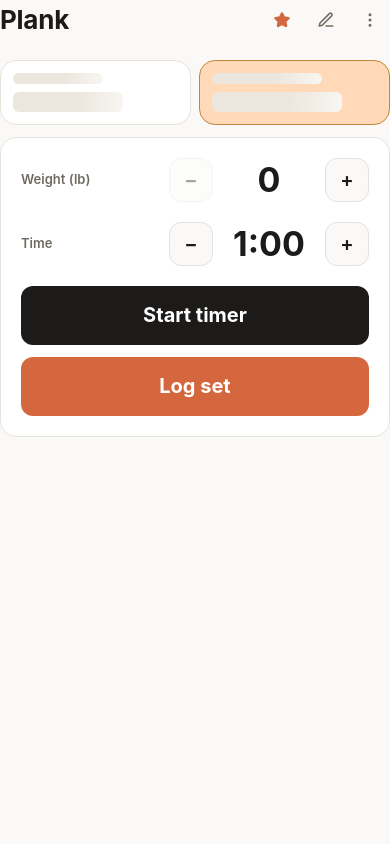
Test: ExerciseDetail duration-tracked exercises › leaves the draft alone when the picker is dismissed
Step 1. Click the field named "Time" → (269, 244), box [225, 223, 313, 265]
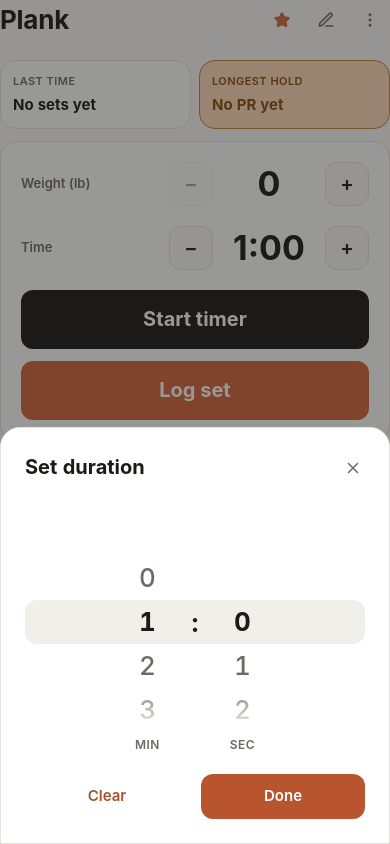
Step 2. Press ArrowDown in the list named "Seconds", box [234, 606, 251, 725]
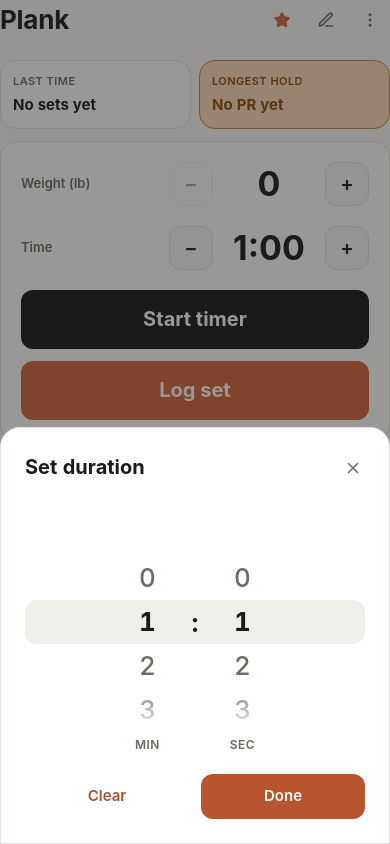
Step 3. Click the button named "Close" → (353, 468), box [333, 448, 373, 488]
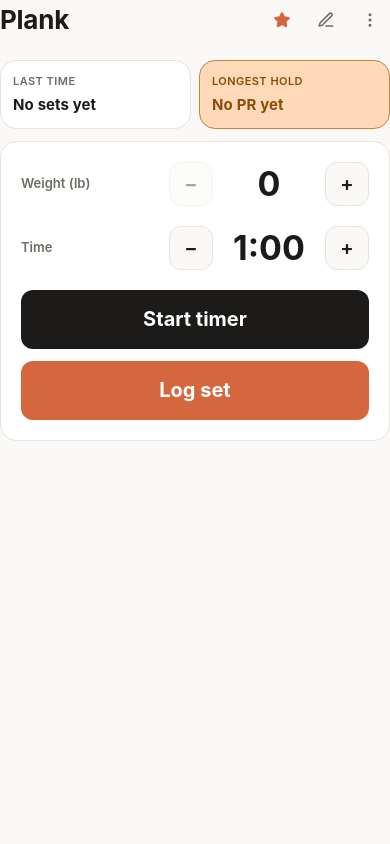
Expected: the dialog is gone
